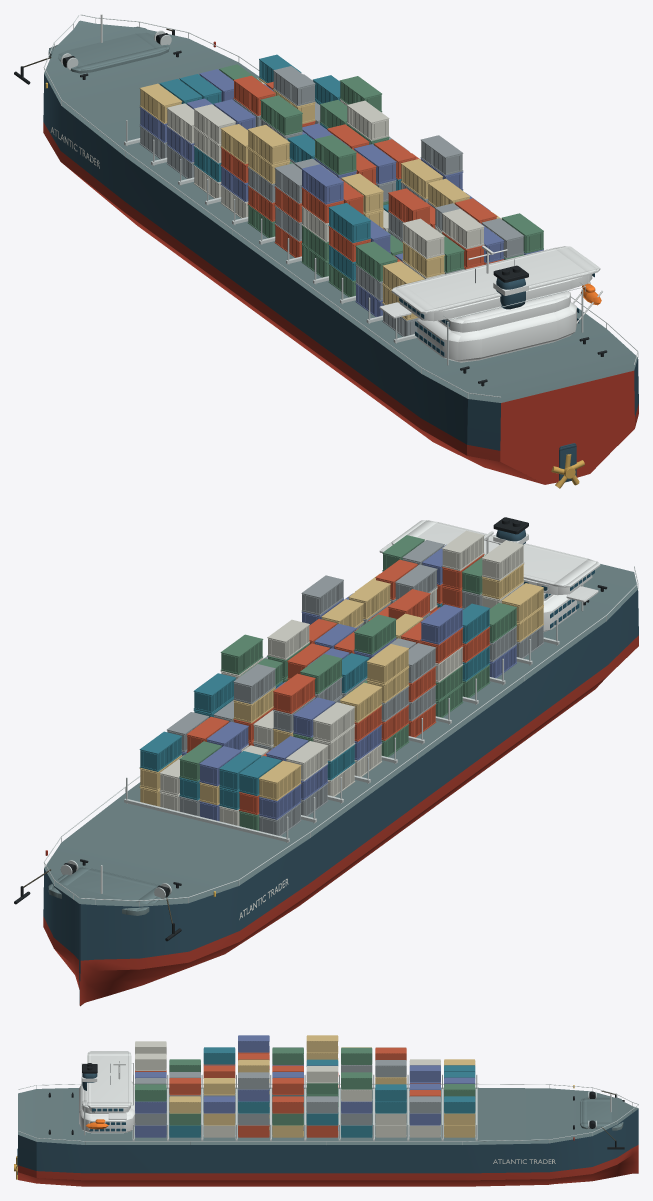
Rendered from carga.glb.
3 views of the same model, one above another, from view 1: azimuth 30°, elevation 25°; view 2: azimuth 150°, elevation 25°; view 3: azimuth 270°, elevation 25° (orthographic). The views are drawn at different scales.
Parts seen in each view (by area): view 1: navio_cargueiro; view 2: navio_cargueiro; view 3: navio_cargueiro.
Boxes of the visible parts, x1,y1,x2,y2 form: navio_cargueiro: (14, 14, 638, 488); navio_cargueiro: (14, 517, 638, 1006); navio_cargueiro: (14, 1035, 638, 1186).
Bounding box in the file's own units: 26.4 × 23.36 × 109.
